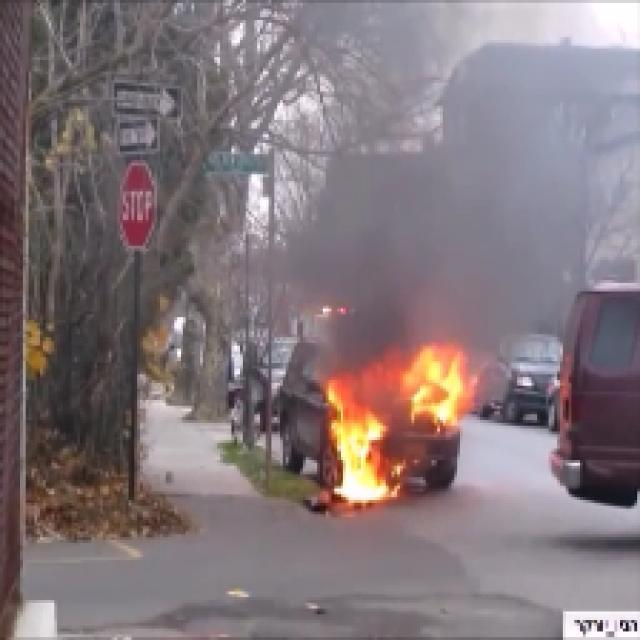Fire: (316, 294, 494, 524)
Smoke: (394, 162, 556, 285)
